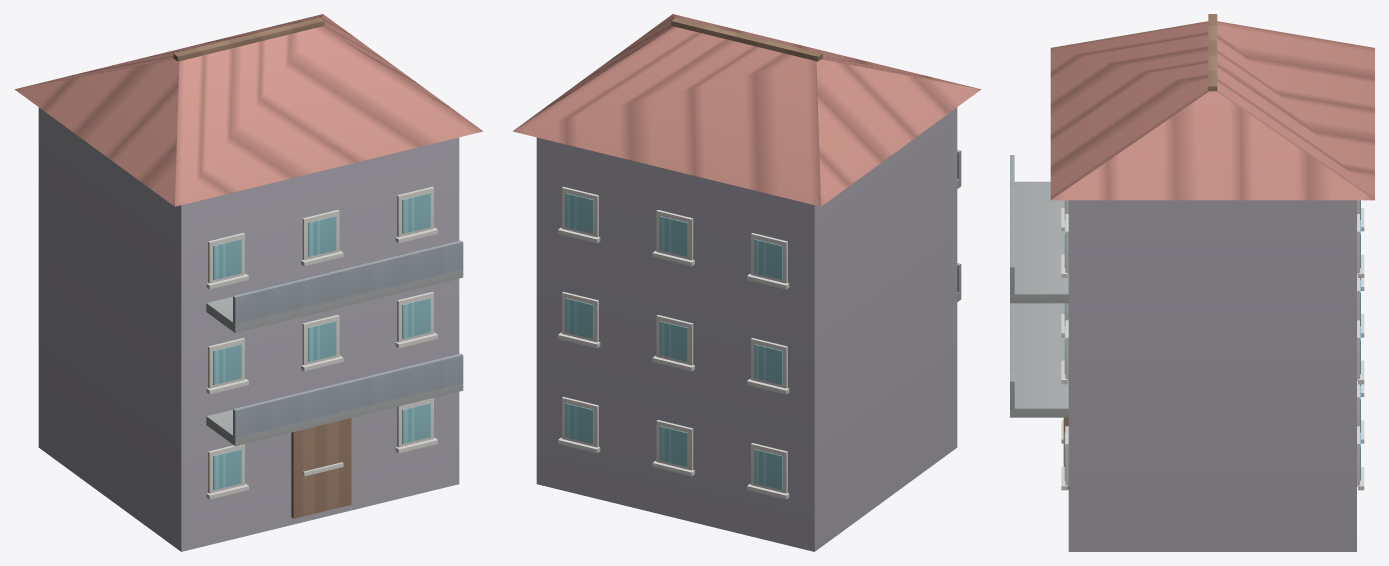
The model's file is three_storey_house.glb.
3 views of the same model, side by side, from view 1: azimuth 30°, elevation 25°; view 2: azimuth 150°, elevation 25°; view 3: azimuth 270°, elevation 25° (orthographic).
Parts seen in each view (by area): view 1: three_storey_house; view 2: three_storey_house; view 3: three_storey_house.
Part boxes in pixels (bbox=[...]): three_storey_house: bbox=[15, 14, 483, 551]; three_storey_house: bbox=[512, 14, 980, 551]; three_storey_house: bbox=[1010, 14, 1374, 551].
Bounding box in the file's own units: 8 × 10.61 × 8.1.
1 material, 1 textured.
